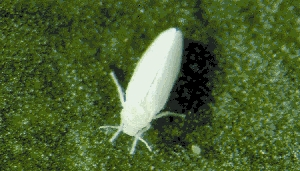whitefly: (99, 25, 186, 159)
